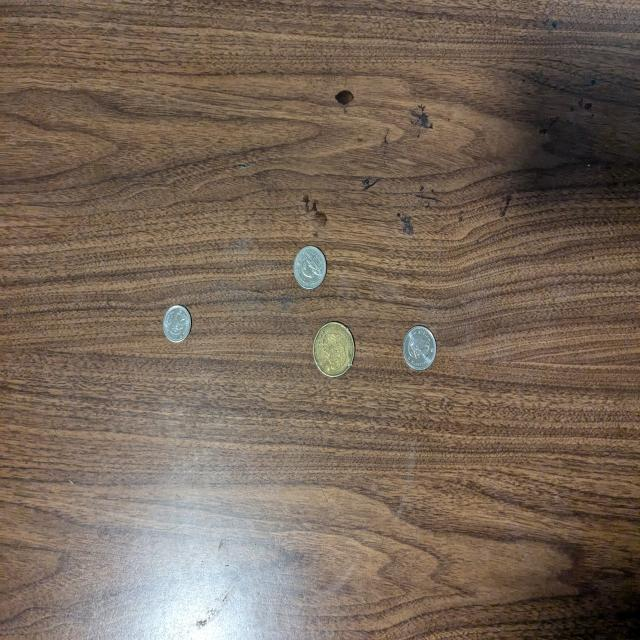dime: (162, 304, 191, 346)
loonie: (313, 323, 357, 378)
nickel: (403, 324, 438, 370), (294, 247, 327, 291)
